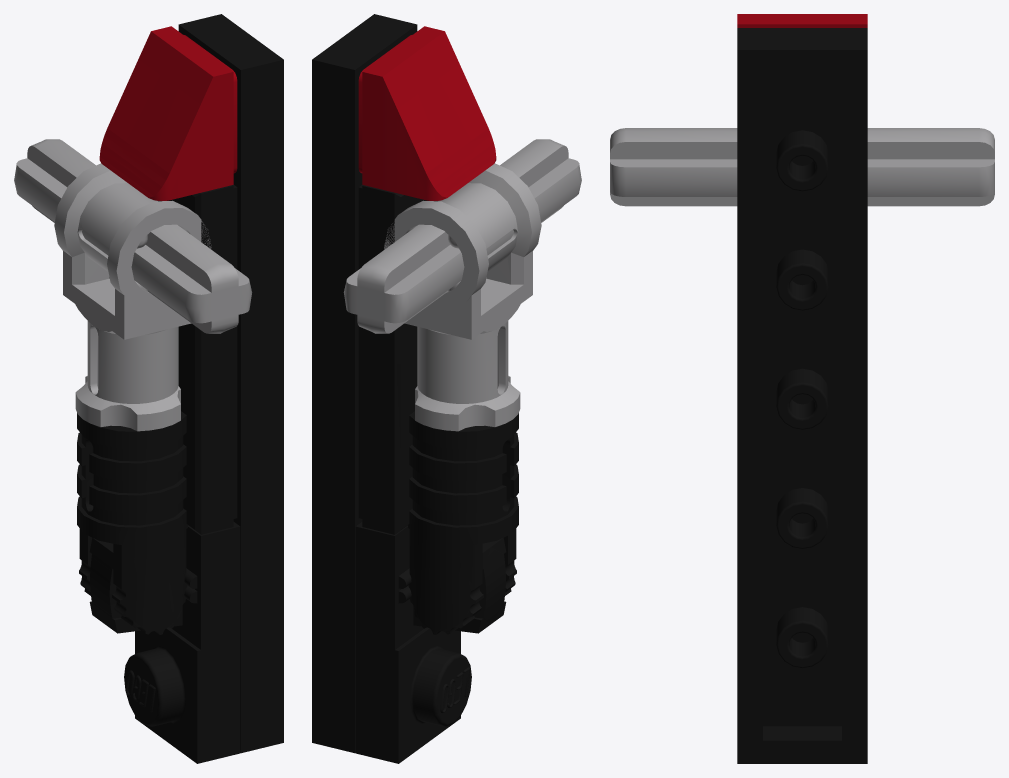
Rendered from lever.fbx.
3 views of the same model, side by side, from view 1: azimuth 30°, elevation 25°; view 2: azimuth 150°, elevation 25°; view 3: azimuth 270°, elevation 25° (orthographic). The views are drawn at different scales.
Visible parts, largest first — view 1: Base, Lever; view 2: Base, Lever; view 3: Base, Lever.
Boxes of the visible parts, <box> form: Base: <box>89,14,283,763</box>; Lever: <box>14,139,252,634</box>; Base: <box>312,14,506,763</box>; Lever: <box>343,139,581,634</box>; Base: <box>737,14,867,763</box>; Lever: <box>610,128,994,206</box>.
Size of the model in its own units: 1248 by 4792 by 2340.
